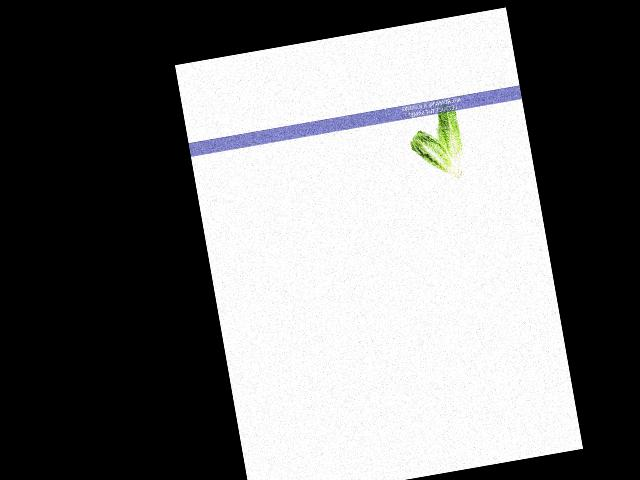lettuce: (408, 120, 465, 186)
